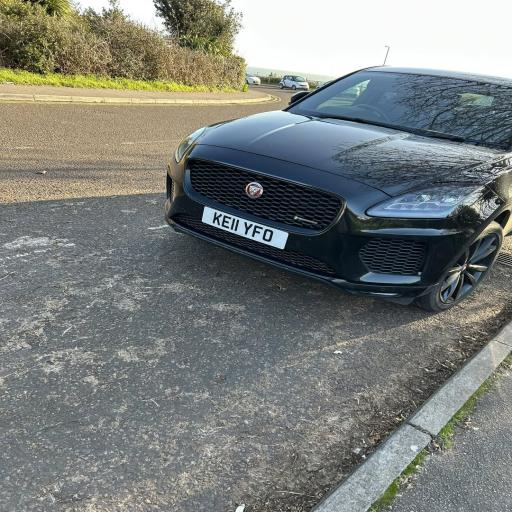numberplates: (202, 207, 288, 248)
